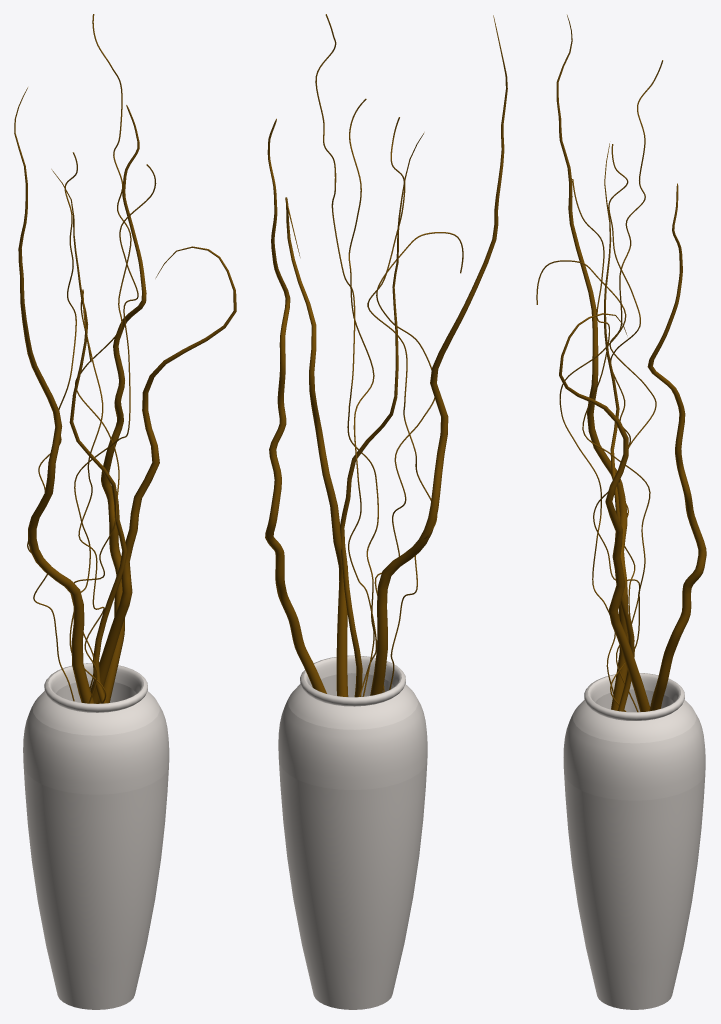
Rendered from vase.fbx.
3 views of the same model, side by side, from view 1: azimuth 30°, elevation 25°; view 2: azimuth 150°, elevation 25°; view 3: azimuth 270°, elevation 25° (orthographic). The views are drawn at different scales.
Parts seen in each view (by area): view 1: Rectangle01, Loft01, Line08, Loft02, Loft04, Loft03; view 2: Rectangle01, Loft01, Line08, Loft04, Loft02, Loft03; view 3: Rectangle01, Line08, Loft04, Loft01, Loft02, Loft03.
Boxes of the visible parts, left/top/right/bottom form: Rectangle01: left=23, top=663, right=169, bottom=1009; Loft01: left=14, top=87, right=94, bottom=703; Line08: left=27, top=14, right=156, bottom=703; Loft02: left=90, top=246, right=236, bottom=703; Loft04: left=99, top=105, right=146, bottom=703; Loft03: left=51, top=169, right=127, bottom=703; Rectangle01: left=278, top=655, right=427, bottom=1009; Loft01: left=370, top=15, right=507, bottom=695; Line08: left=315, top=14, right=463, bottom=696; Loft04: left=265, top=118, right=326, bottom=693; Loft02: left=285, top=197, right=348, bottom=696; Loft03: left=340, top=132, right=424, bottom=697; Rectangle01: left=563, top=673, right=705, bottom=1009; Line08: left=536, top=60, right=663, bottom=712; Loft04: left=647, top=183, right=706, bottom=711; Loft01: left=556, top=15, right=628, bottom=710; Loft02: left=559, top=313, right=650, bottom=711; Loft03: left=604, top=143, right=634, bottom=711.
Size of the model in its own units: 2357 by 10000 by 1642.
